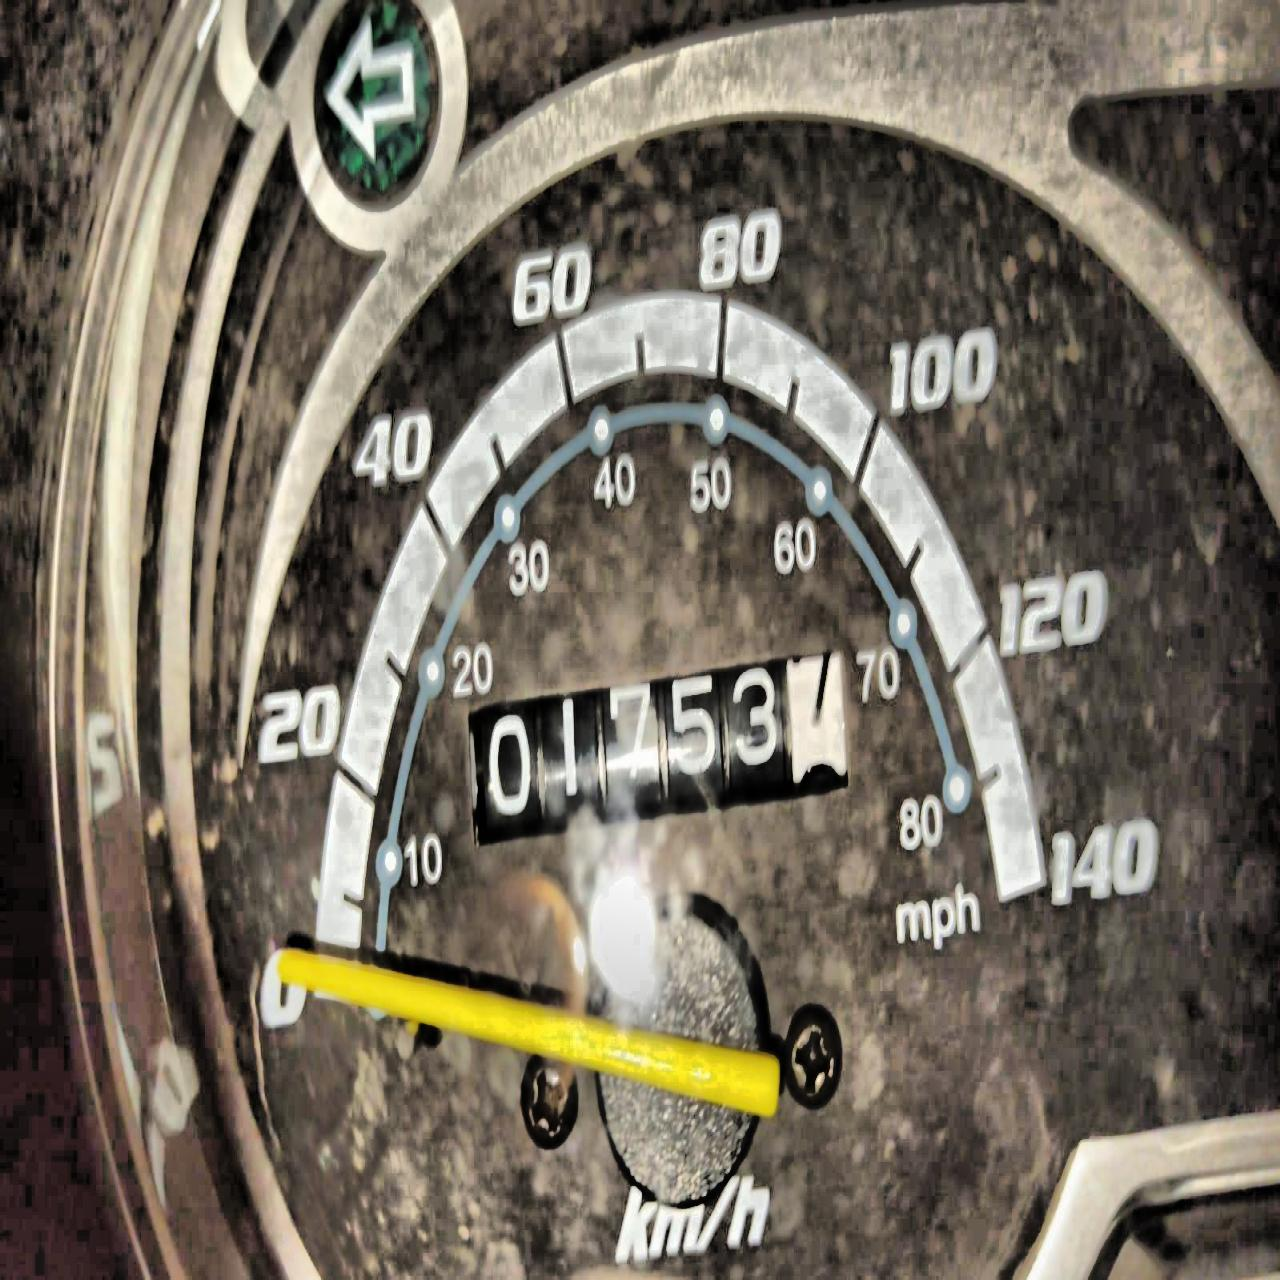0: (484, 708, 533, 815), (471, 640, 493, 690)
1: (551, 669, 590, 812)
2: (452, 640, 472, 704)
3: (728, 660, 778, 775)
5: (666, 660, 716, 784)
7: (787, 642, 843, 742), (605, 676, 654, 789)
odometer: (458, 633, 860, 851)
